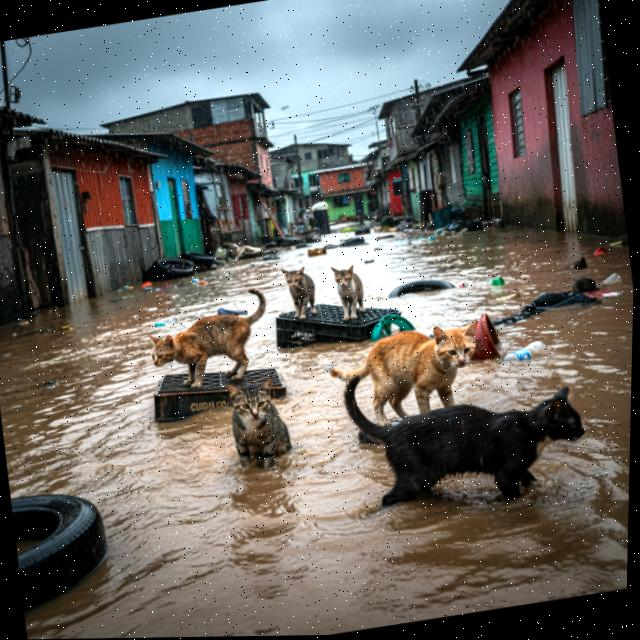cat: (341, 346, 603, 531), (325, 318, 500, 437), (134, 285, 273, 399), (212, 366, 315, 481), (269, 257, 322, 321), (324, 257, 372, 322)
